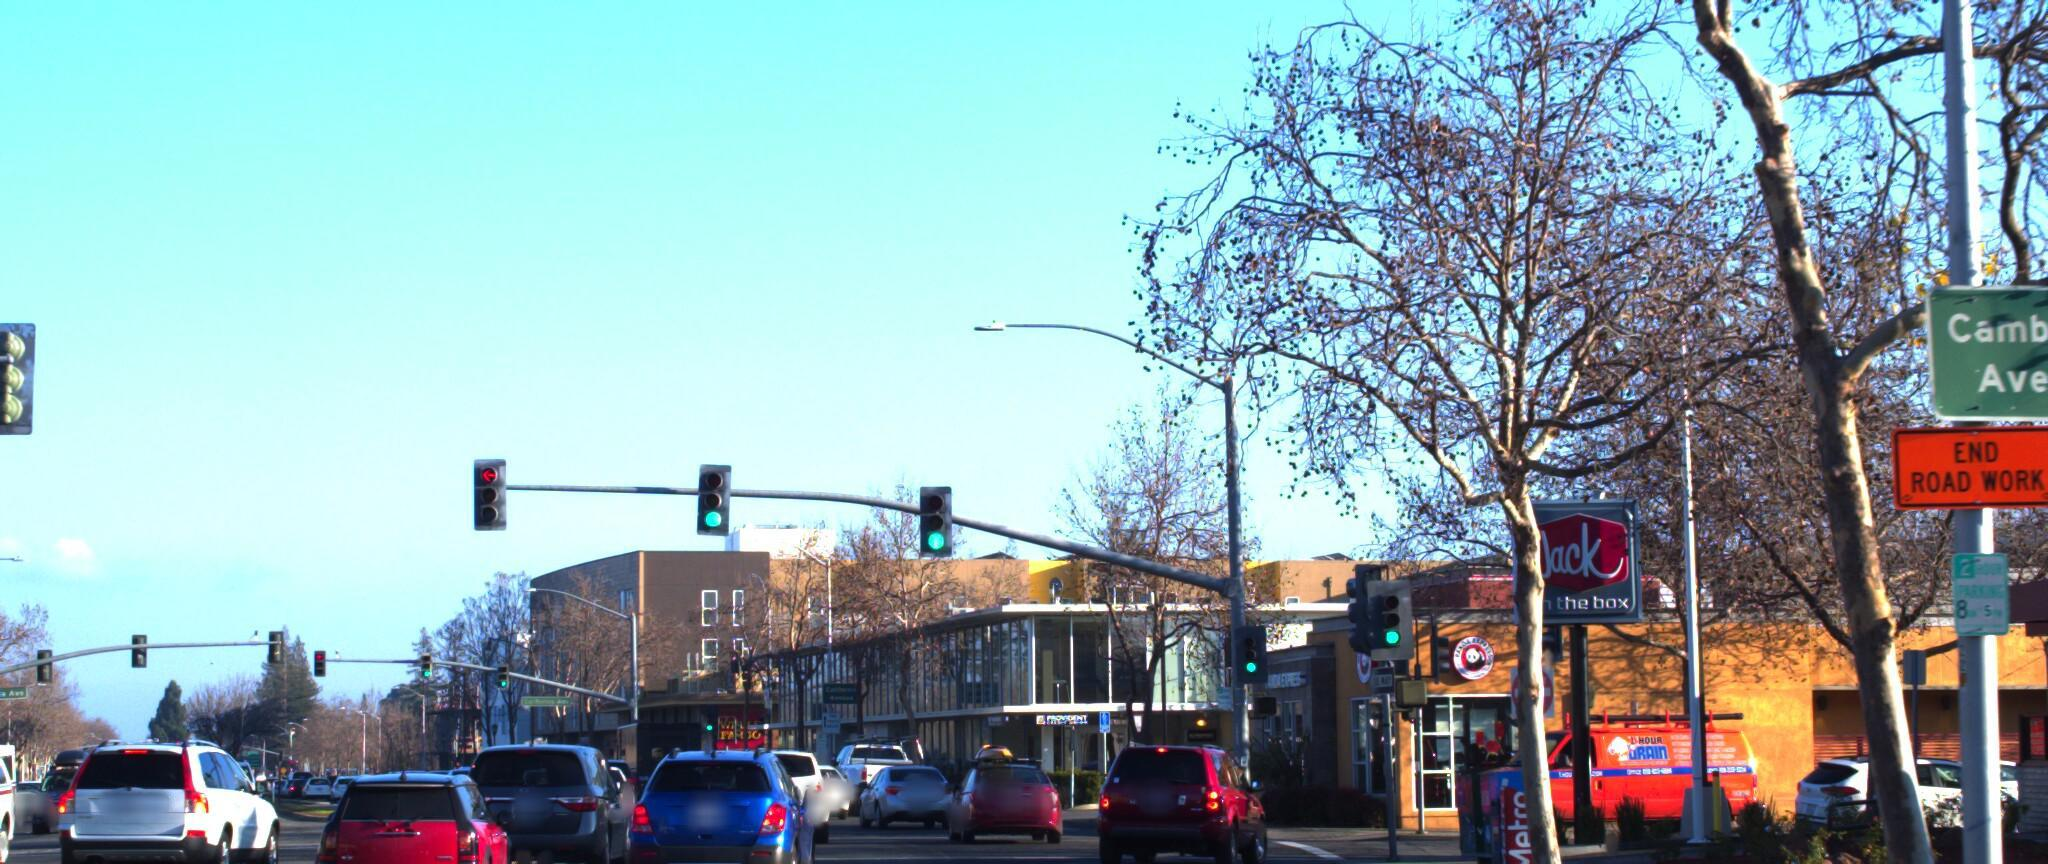car: (1428, 703, 1768, 831), (31, 717, 306, 864), (447, 717, 647, 864), (1763, 736, 2048, 833), (310, 744, 537, 864), (613, 736, 814, 864), (1081, 737, 1288, 859), (927, 732, 1063, 843), (733, 743, 846, 851), (848, 737, 963, 812), (0, 713, 34, 864)
